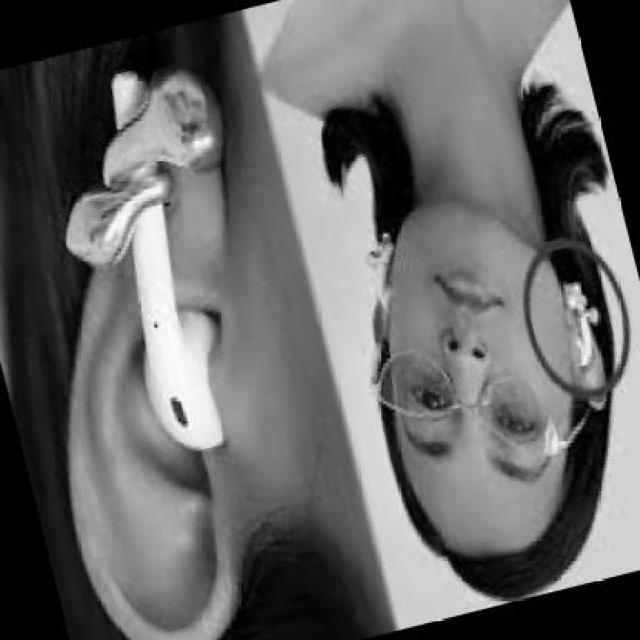earphone: (99, 56, 239, 453), (542, 273, 619, 412)
